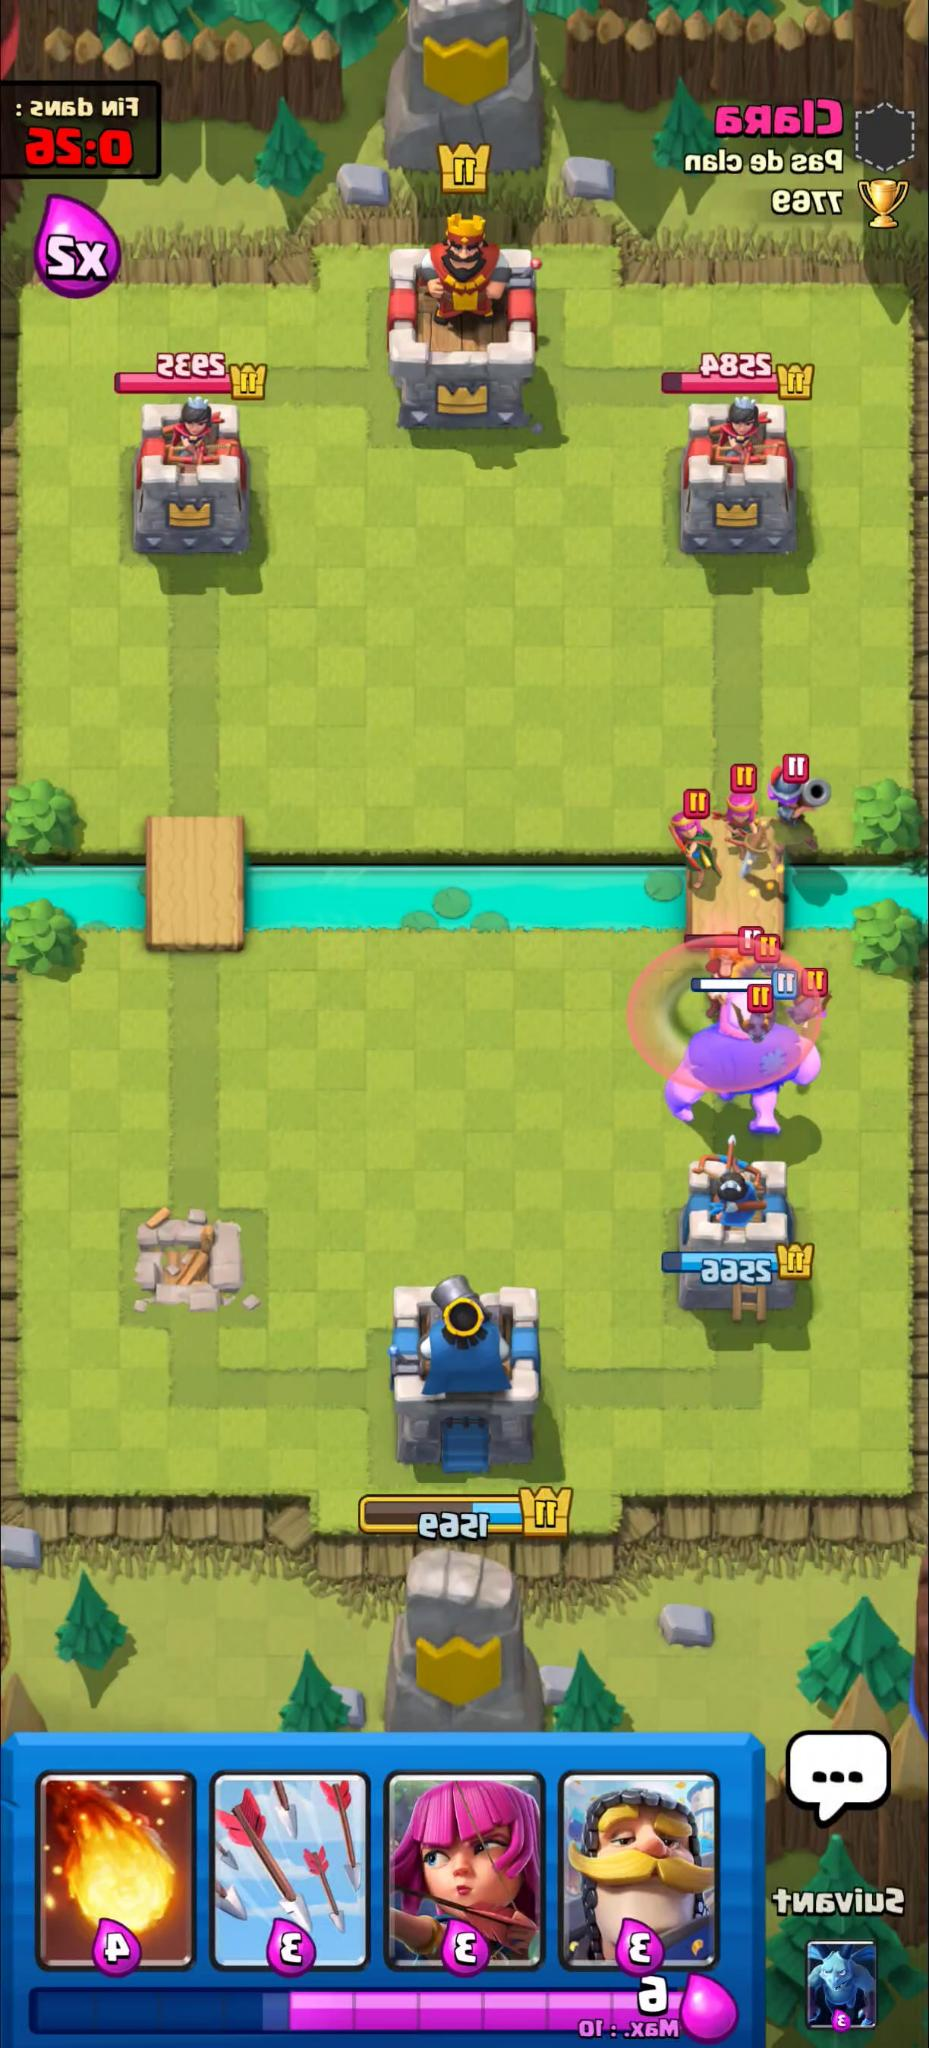archere: (665, 811, 728, 891), (715, 788, 760, 858)
bat: (725, 953, 804, 984), (732, 1000, 779, 1046), (783, 987, 834, 1029)
geant: (662, 998, 831, 1134)
mousquetaire: (767, 765, 834, 828)
valkyrie: (695, 935, 747, 1017)
